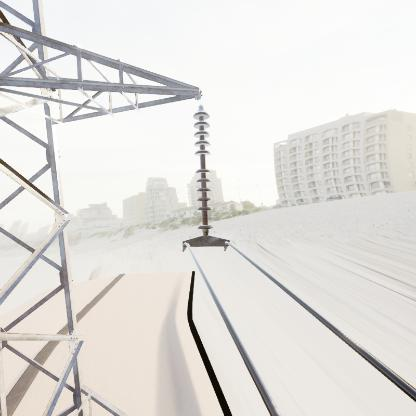insulator: (191, 109, 216, 240)
